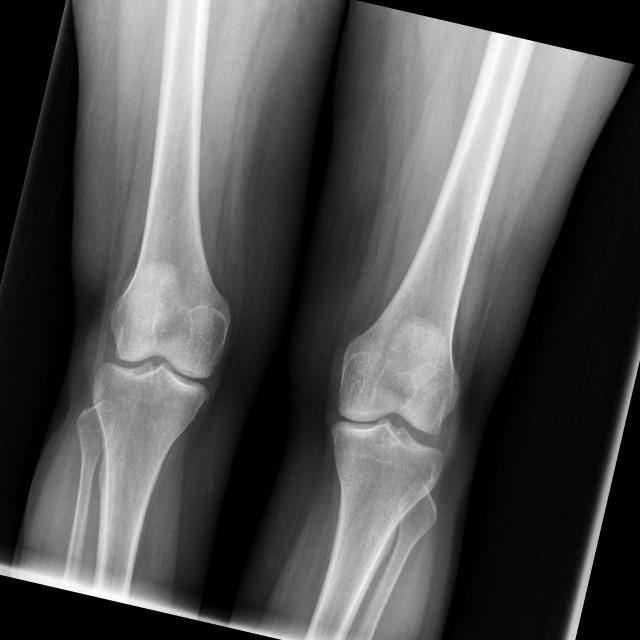Knee: (310, 346, 466, 514), (82, 284, 236, 444)
